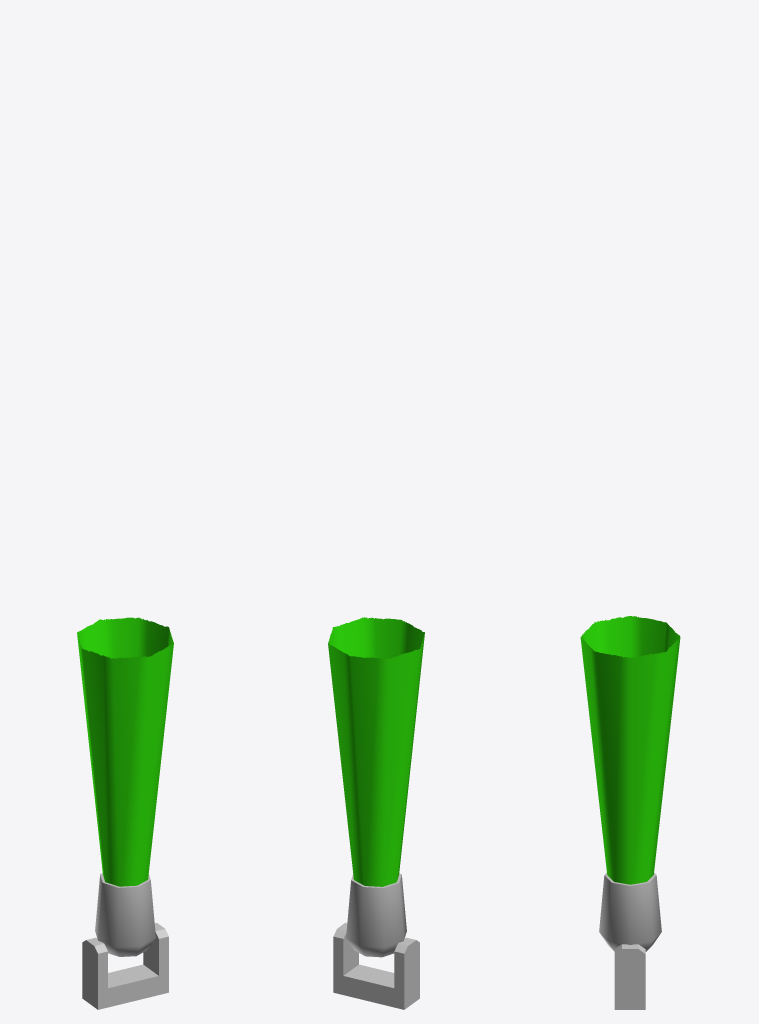
File: egypt_light.fbx
The picture shows the model from 3 angles, left to right: view 1: azimuth 30°, elevation 25°; view 2: azimuth 150°, elevation 25°; view 3: azimuth 270°, elevation 25°; orthographic projection.
Visible parts, largest first — view 1: Cube.094, Cube.071; view 2: Cube.094, Cube.071; view 3: Cube.094, Cube.071.
Boxes of the visible parts, <box> form: Cube.094: <box>77,617,173,956</box>; Cube.071: <box>82,923,168,1009</box>; Cube.094: <box>328,617,424,957</box>; Cube.071: <box>333,922,419,1009</box>; Cube.094: <box>580,616,680,951</box>; Cube.071: <box>614,944,645,1009</box>.
Size of the model in its own units: 874 by 3920 by 874.
